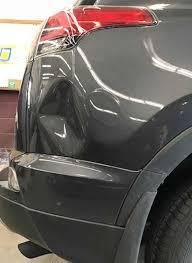quaterpanel-dent: (0, 26, 191, 190)
